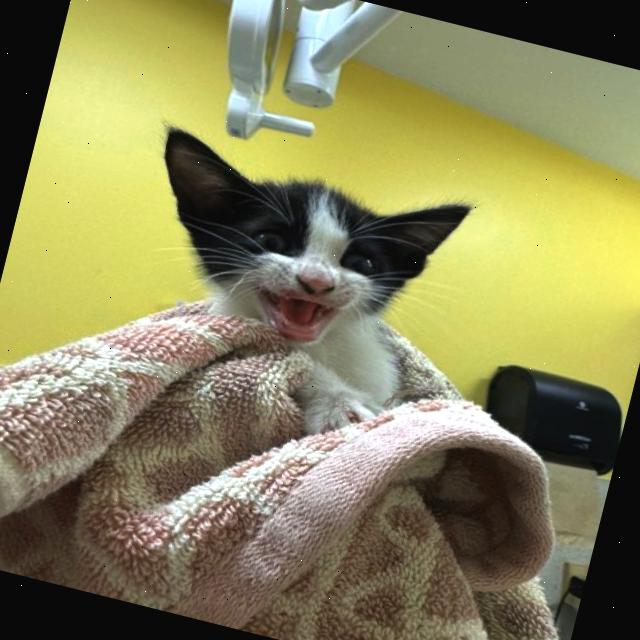domestic_short_hair_cat: (90, 102, 497, 406)
